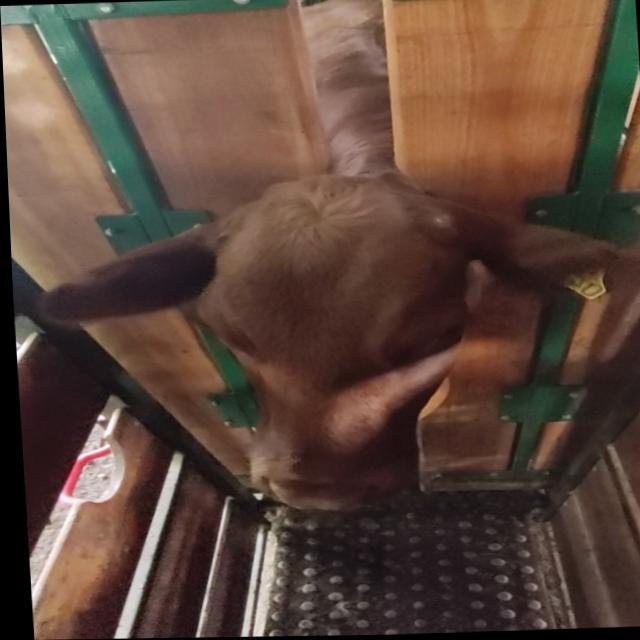cowFace: (178, 177, 479, 514)
